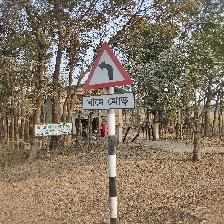Left-Turn: (81, 42, 135, 112)
